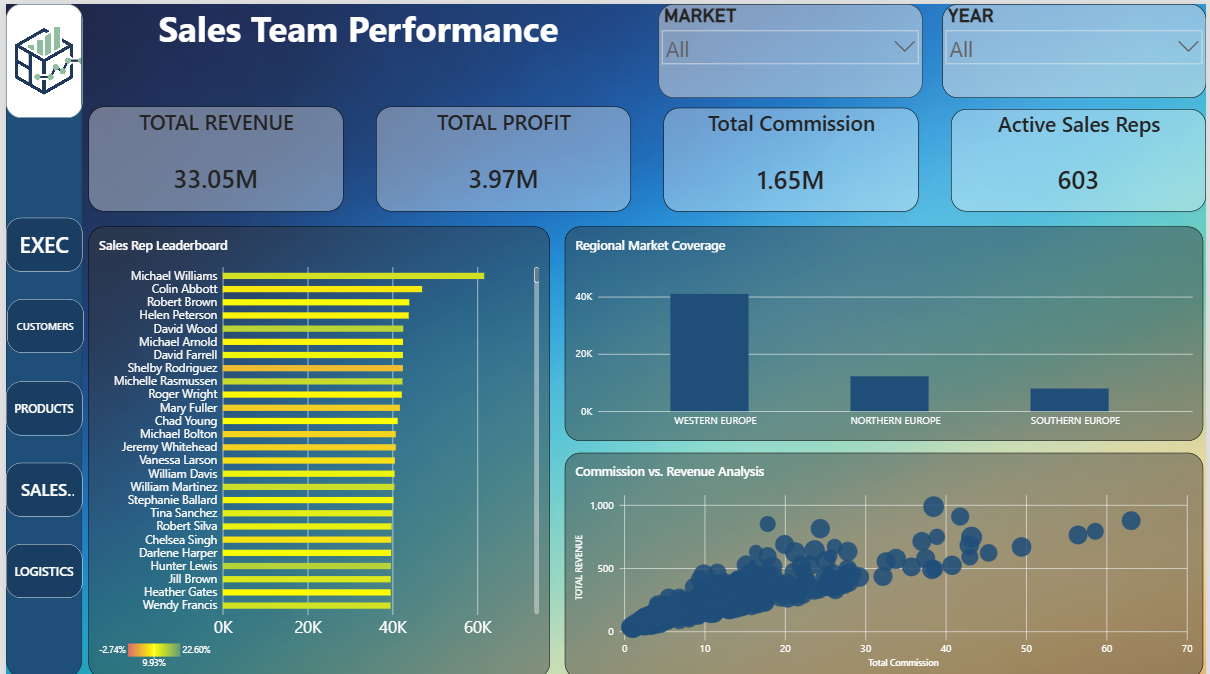

This screenshot's page, from the dashboard's own definition file:
{"tool":"powerbi","page":{"name":"SALES TEAM","canvas":[1920,1080],"ordinal":3},"visuals":[{"type":"shape","box":[0,0,122,1080],"z":0},{"type":"textbox","box":[132,0,864,76],"z":1000},{"type":"slicer","fields":{"Values":["gold dim_date.year"]},"box":[1498,0,422,150],"z":2000},{"type":"slicer","fields":{"Values":["gold dim_salesman.market"]},"box":[1044,0,422,150],"z":3000},{"type":"clusteredBarChart","title":"Sales Rep Leaderboard","fields":{"Category":["gold dim_salesman.salesman_full_name"],"Y":["KEY_MEASURES.TOTAL REVENUE"]},"box":[131.7,356.7,738.3,723.3],"z":4000},{"type":"cardVisual","title":"TOTAL REVENUE","fields":{"Data":["KEY_MEASURES.TOTAL REVENUE"]},"box":[132,164,408,168],"z":9000},{"type":"cardVisual","title":"TOTAL PROFIT","fields":{"Data":["KEY_MEASURES.TOTAL PROFIT"]},"box":[592,164,408,168],"z":10000},{"type":"cardVisual","title":"Total Commission","fields":{"Data":["KEY_MEASURES.Total Commission"]},"box":[1052,166,408,166],"z":11000},{"type":"cardVisual","title":"Active Sales Reps","fields":{"Data":["KEY_MEASURES.Active Reps"]},"box":[1512,168,408,164],"z":12000},{"type":"scatterChart","title":"Commission vs. Revenue Analysis","fields":{"Category":["gold dim_salesman.salesman_full_name"],"Size":["KEY_MEASURES.TOTAL PROFIT"],"X":["KEY_MEASURES.Total Commission"],"Y":["KEY_MEASURES.TOTAL REVENUE"]},"box":[893.3,718.3,1021.7,361.7],"z":13000},{"type":"clusteredColumnChart","title":"Regional Market Coverage","fields":{"Category":["gold dim_salesman.region"],"Y":["KEY_MEASURES.TOTAL REVENUE"]},"box":[893.3,356.7,1021.7,343.3],"z":14000},{"type":"image","box":[0,0,122,182],"z":14001},{"type":"actionButton","title":"EXEC","box":[0,342,122,86],"z":14002},{"type":"actionButton","box":[2,472.5,122,86],"z":14003},{"type":"actionButton","box":[0,603,122,86],"z":14004},{"type":"actionButton","box":[0,733.5,122,86],"z":14005},{"type":"actionButton","box":[0,864,122,86],"z":14006}]}

Visuals, with their boxes in screenshot pixels (x1, y1, x2, y2), scaled from the page's 1920x1080 canvas onto the 1210x674 screenshot:
shape: pyautogui.locateOnScreen(0, 0, 77, 673)
textbox: pyautogui.locateOnScreen(83, 0, 628, 47)
slicer - gold dim_date.year: pyautogui.locateOnScreen(944, 0, 1209, 94)
slicer - gold dim_salesman.market: pyautogui.locateOnScreen(658, 0, 924, 94)
"Sales Rep Leaderboard" clusteredBarChart: pyautogui.locateOnScreen(83, 223, 548, 673)
"TOTAL REVENUE" cardVisual: pyautogui.locateOnScreen(83, 102, 340, 207)
"TOTAL PROFIT" cardVisual: pyautogui.locateOnScreen(373, 102, 630, 207)
"Total Commission" cardVisual: pyautogui.locateOnScreen(663, 104, 920, 207)
"Active Sales Reps" cardVisual: pyautogui.locateOnScreen(953, 105, 1209, 207)
"Commission vs. Revenue Analysis" scatterChart: pyautogui.locateOnScreen(563, 448, 1207, 673)
"Regional Market Coverage" clusteredColumnChart: pyautogui.locateOnScreen(563, 223, 1207, 437)
image: pyautogui.locateOnScreen(0, 0, 77, 114)
"EXEC" actionButton: pyautogui.locateOnScreen(0, 213, 77, 267)
actionButton: pyautogui.locateOnScreen(1, 295, 78, 349)
actionButton: pyautogui.locateOnScreen(0, 376, 77, 430)
actionButton: pyautogui.locateOnScreen(0, 458, 77, 511)
actionButton: pyautogui.locateOnScreen(0, 539, 77, 593)
